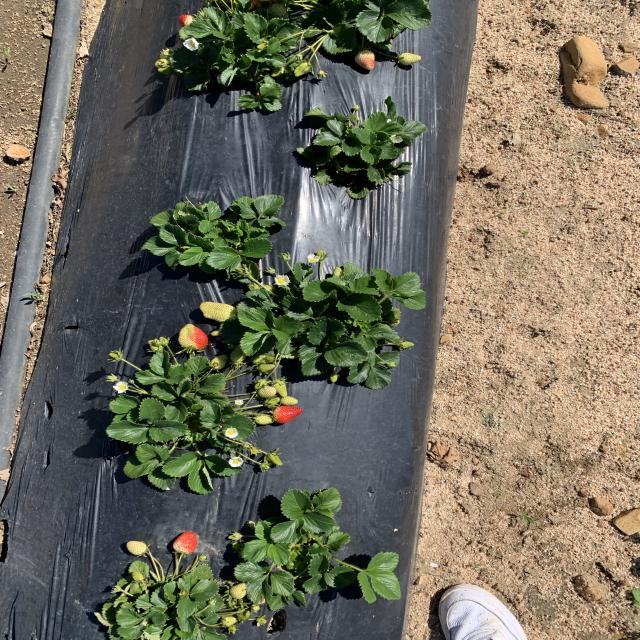unripe: (170, 531, 198, 555), (272, 406, 304, 423), (178, 13, 200, 28)
